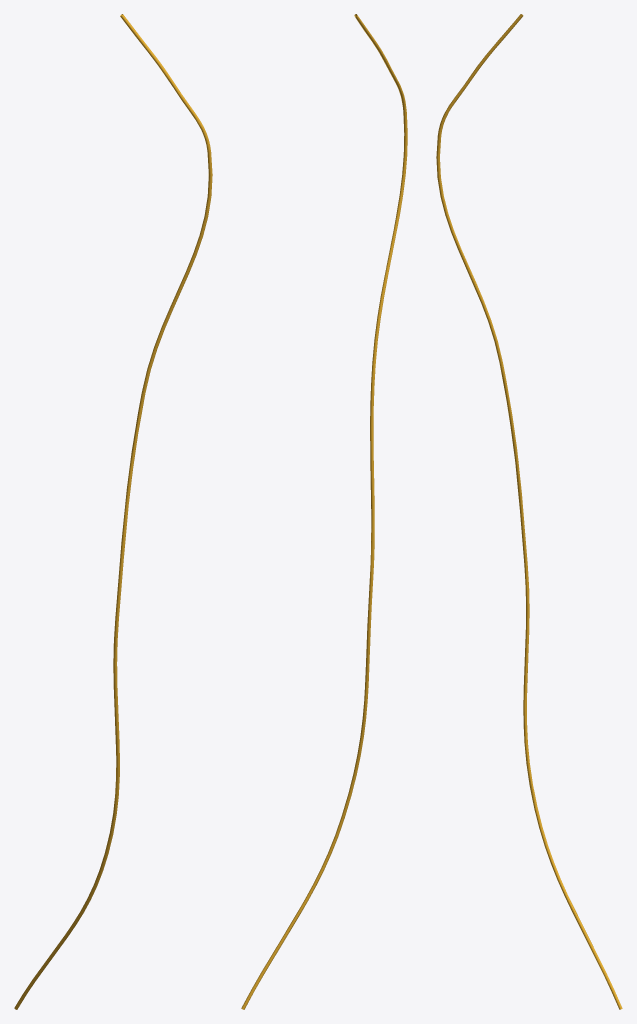
File: nervoso-anterior-branch-of-obturator-nerve-r.glb
The picture shows the model from 3 angles, left to right: view 1: azimuth 90°, elevation 25°; view 2: azimuth 150°, elevation 25°; view 3: azimuth 270°, elevation 25°; orthographic projection. The views are drawn at different scales.
Visible parts, largest first — view 1: Anterior branch of obturator nerve.r; view 2: Anterior branch of obturator nerve.r; view 3: Anterior branch of obturator nerve.r.
Part boxes in pixels (x1=…): Anterior branch of obturator nerve.r: x1=14, y1=14, x2=212, y2=1009; Anterior branch of obturator nerve.r: x1=241, y1=14, x2=407, y2=1009; Anterior branch of obturator nerve.r: x1=436, y1=14, x2=622, y2=1009.
Bounding box in the file's own units: 0.0273 × 0.3045 × 0.0532.
